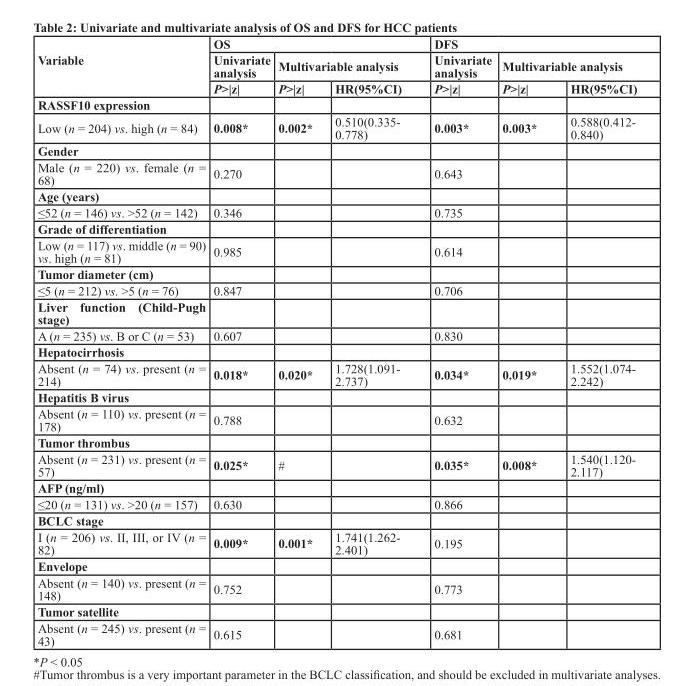table: (36, 36, 636, 647)
table column: (36, 36, 208, 647), (323, 36, 417, 647), (553, 36, 636, 647), (417, 36, 496, 647), (208, 36, 273, 647), (496, 36, 553, 647), (273, 36, 323, 647)
table column header: (36, 36, 636, 96)
table projected row header: (36, 298, 636, 327), (36, 187, 636, 204), (36, 265, 636, 282), (36, 388, 636, 405), (36, 557, 636, 574), (36, 96, 636, 112), (36, 142, 636, 158), (36, 220, 636, 236), (36, 343, 636, 359), (36, 434, 636, 450), (36, 479, 636, 495), (36, 512, 636, 528), (36, 603, 636, 619)
table row: (36, 112, 636, 142), (36, 51, 636, 80), (36, 158, 636, 187), (36, 236, 636, 265), (36, 298, 636, 327), (36, 359, 636, 388), (36, 405, 636, 434), (36, 450, 636, 479), (36, 528, 636, 557), (36, 574, 636, 603), (36, 619, 636, 647), (36, 187, 636, 204), (36, 265, 636, 282), (36, 388, 636, 405), (36, 495, 636, 512), (36, 557, 636, 574), (36, 80, 636, 96), (36, 96, 636, 112), (36, 142, 636, 158), (36, 204, 636, 220), (36, 220, 636, 236), (36, 282, 636, 298), (36, 327, 636, 343), (36, 343, 636, 359), (36, 434, 636, 450), (36, 479, 636, 495), (36, 512, 636, 528), (36, 603, 636, 619), (36, 36, 636, 51)
table spanning cell: (36, 36, 208, 96), (273, 51, 417, 80), (496, 51, 636, 80), (417, 51, 496, 96), (417, 36, 636, 51), (208, 36, 417, 51), (208, 51, 273, 96)
